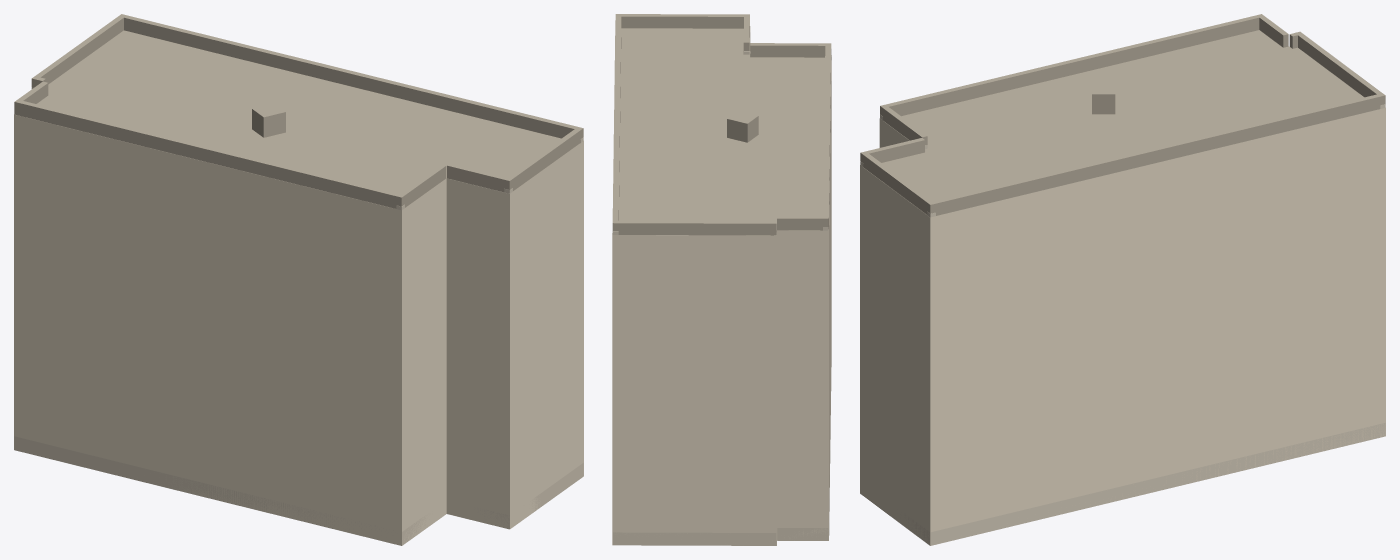
Rendered from cop_art_deco_carioca_04__way_488128345.fbx.
The picture shows the model from 3 angles, left to right: view 1: azimuth 30°, elevation 25°; view 2: azimuth 150°, elevation 25°; view 3: azimuth 270°, elevation 25°; orthographic projection. The views are drawn at different scales.
Visible parts, largest first — view 1: cop_art_deco_carioca_04__way_488128345_wall, cop_art_deco_carioca_04__way_488128345_roof, cop_art_deco_carioca_04__way_488128345_stone; view 2: cop_art_deco_carioca_04__way_488128345_wall, cop_art_deco_carioca_04__way_488128345_roof, cop_art_deco_carioca_04__way_488128345_stone; view 3: cop_art_deco_carioca_04__way_488128345_wall, cop_art_deco_carioca_04__way_488128345_roof, cop_art_deco_carioca_04__way_488128345_stone.
Part boxes in pixels (x1,y1,x2,y2): cop_art_deco_carioca_04__way_488128345_wall: (14, 114, 583, 545); cop_art_deco_carioca_04__way_488128345_roof: (14, 14, 583, 209); cop_art_deco_carioca_04__way_488128345_stone: (14, 87, 583, 545); cop_art_deco_carioca_04__way_488128345_wall: (612, 32, 831, 545); cop_art_deco_carioca_04__way_488128345_roof: (612, 14, 831, 235); cop_art_deco_carioca_04__way_488128345_stone: (613, 51, 830, 545); cop_art_deco_carioca_04__way_488128345_wall: (860, 108, 1385, 545); cop_art_deco_carioca_04__way_488128345_roof: (860, 14, 1385, 217); cop_art_deco_carioca_04__way_488128345_stone: (860, 104, 1385, 545).
Bounding box in the file's own units: 2249 × 1912 × 2613.
